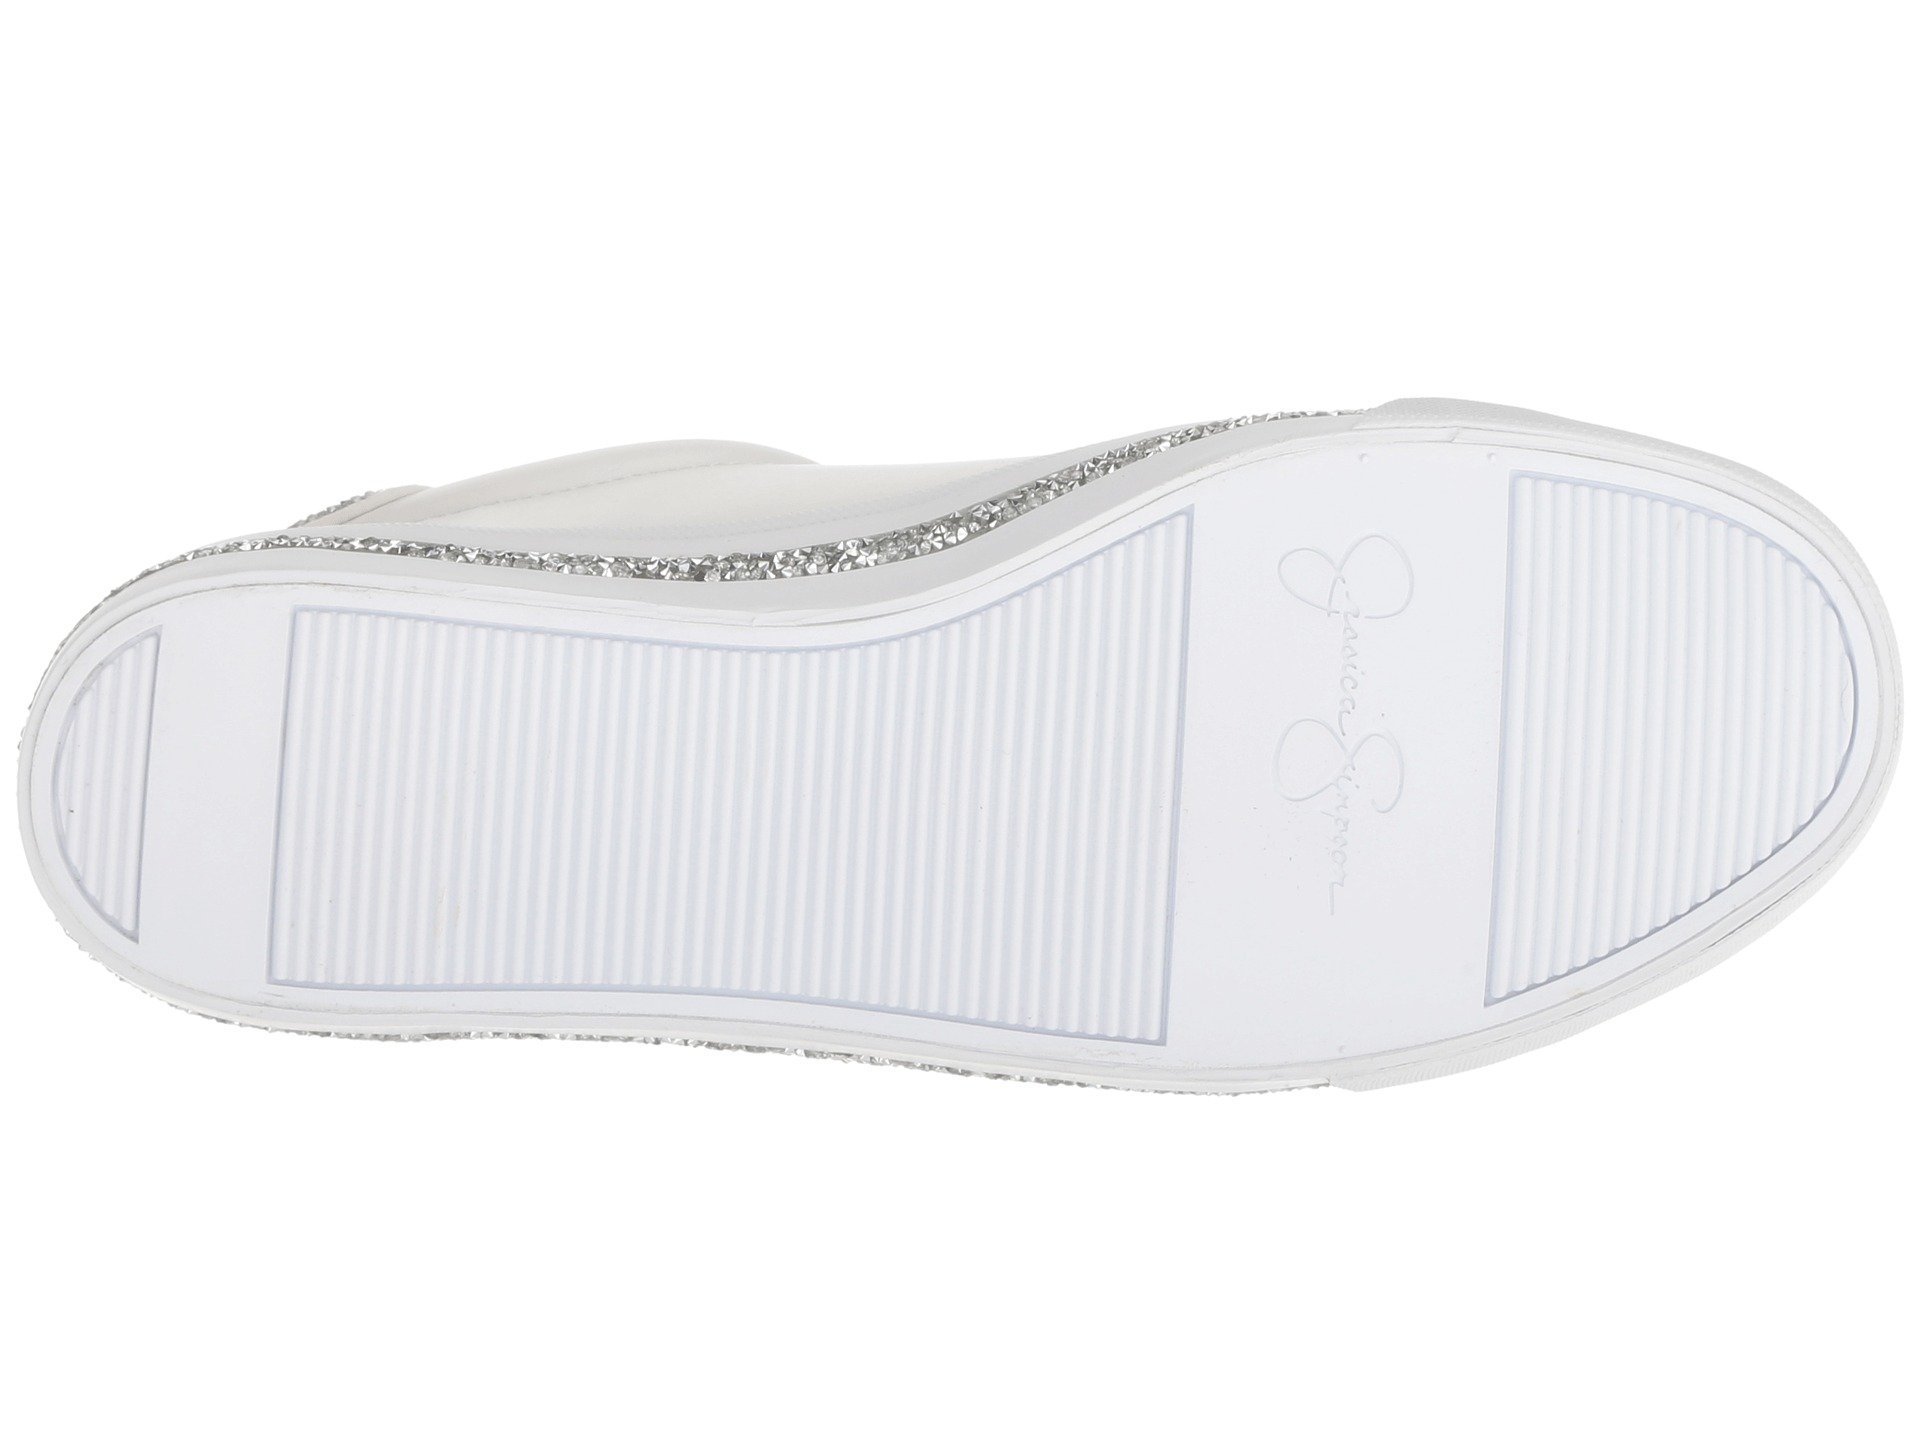line: (1231, 492, 1578, 882), (736, 681, 1101, 1029), (304, 641, 615, 988)
text: (1231, 492, 1578, 882)
